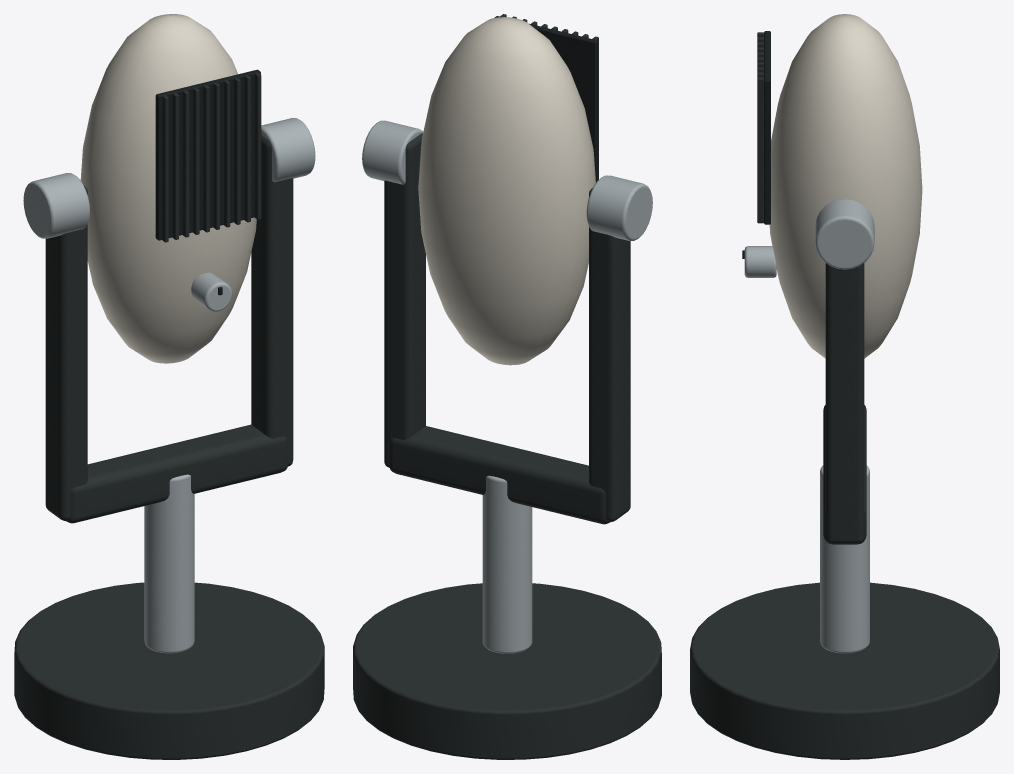
The model's file is microphone.glb.
3 views of the same model, side by side, from view 1: azimuth 30°, elevation 25°; view 2: azimuth 150°, elevation 25°; view 3: azimuth 270°, elevation 25° (orthographic).
Visible parts, largest first — view 1: Desk microphone base, USB capsule shell, Adjustable yoke side, Adjustable yoke side.001, Yoke lower bridge, Stand stem, Dark grille backing, Yoke pivot, Yoke pivot.001, Grille rib.002, Grille rib.009, Rotary control (+8 smaller); view 2: USB capsule shell, Desk microphone base, Adjustable yoke side, Adjustable yoke side.001, Yoke lower bridge, Stand stem, Yoke pivot, Dark grille backing, Yoke pivot.001; view 3: Desk microphone base, USB capsule shell, Adjustable yoke side.001, Stand stem, Yoke pivot.001, Dark grille backing, Grille rib.009, Rotary control, Yoke lower bridge.
Boxes of the visible parts, x1,y1,x2,y2 form: Desk microphone base: (14,582,324,759); USB capsule shell: (80,14,256,363); Adjustable yoke side: (45,186,87,520); Adjustable yoke side.001: (251,135,293,466); Yoke lower bridge: (66,424,287,523); Stand stem: (144,474,194,653); Dark grille backing: (155,69,260,240); Yoke pivot: (23,173,89,238); Yoke pivot.001: (261,118,315,182); Grille rib.002: (182,90,189,237); Grille rib.009: (254,72,261,219); Rotary control: (191,272,232,311); USB capsule shell: (418,17,595,365); Desk microphone base: (353,583,661,759); Adjustable yoke side: (589,188,630,521); Adjustable yoke side.001: (384,133,425,467); Yoke lower bridge: (389,426,610,524); Stand stem: (482,475,532,653); Yoke pivot: (586,175,652,240); Dark grille backing: (494,16,598,182); Yoke pivot.001: (362,120,423,184); Desk microphone base: (690,582,999,759); USB capsule shell: (769,14,922,358); Adjustable yoke side.001: (825,263,864,543); Stand stem: (820,465,869,653); Yoke pivot.001: (815,199,874,269); Dark grille backing: (764,31,770,224); Grille rib.009: (757,77,763,223); Rotary control: (744,246,776,277); Yoke lower bridge: (823,405,866,544).
Size of the model in its own units: 0.136 by 0.328 by 0.136.
Materials: 4 (4 with a texture image).
